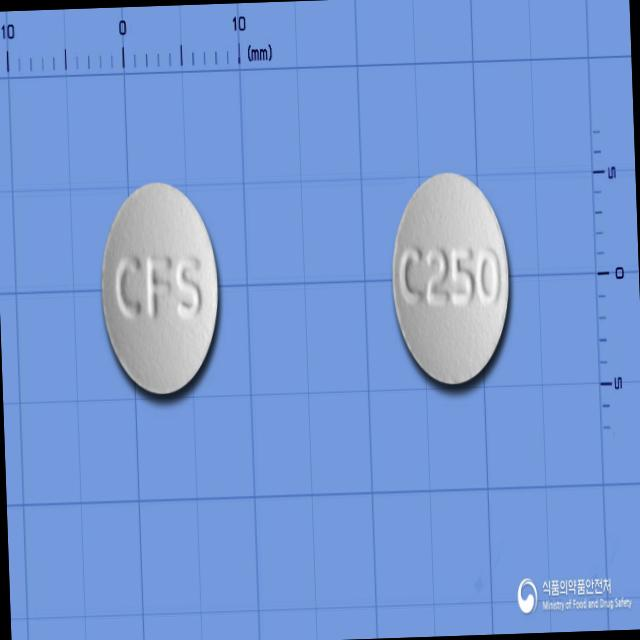Cipaxin: (385, 164, 516, 397), (94, 175, 226, 404)
